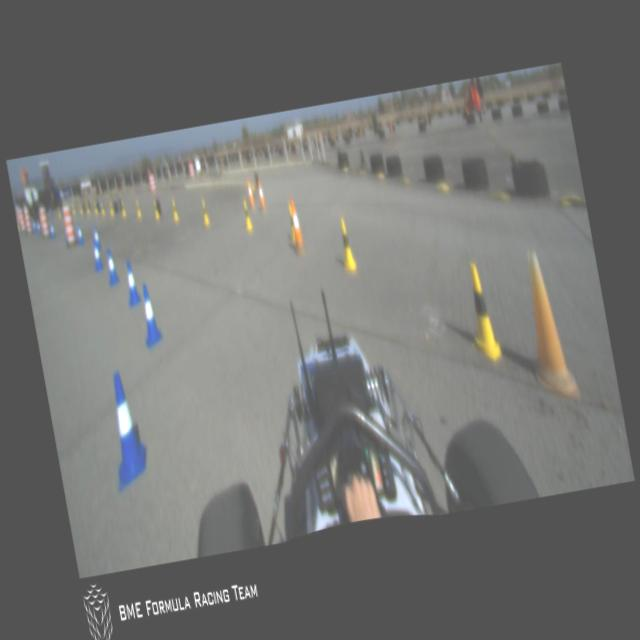blue_cone: (98, 368, 152, 490), (136, 280, 163, 348), (121, 258, 141, 308), (103, 248, 120, 286), (90, 240, 104, 272), (92, 224, 101, 248), (76, 222, 84, 246), (48, 221, 56, 239), (29, 218, 36, 234), (34, 220, 41, 234)
unknown_cone: (286, 197, 307, 256), (255, 178, 268, 215), (244, 178, 256, 210)
yellow_cone: (458, 259, 503, 365), (336, 217, 358, 274), (286, 203, 296, 242), (240, 198, 252, 230), (200, 198, 210, 226), (151, 198, 160, 220), (170, 198, 178, 222), (106, 200, 115, 218), (119, 198, 127, 218), (134, 199, 142, 218), (98, 200, 106, 218), (77, 201, 84, 217), (92, 200, 98, 217), (84, 200, 90, 216), (70, 202, 76, 214)
